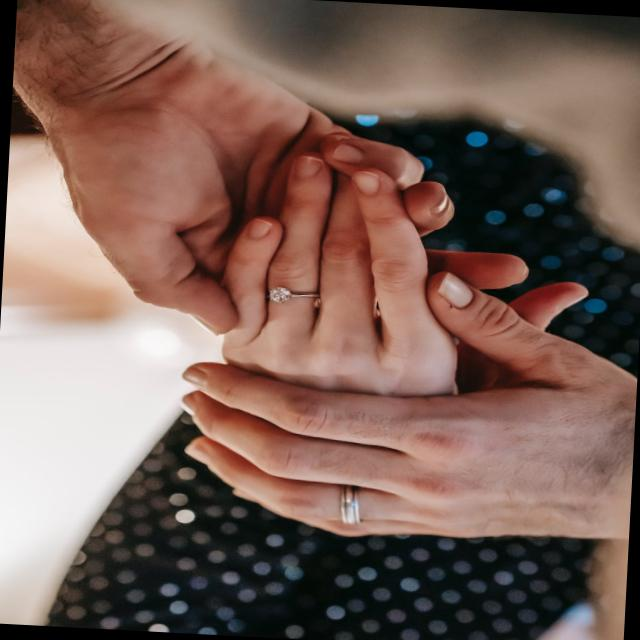Nail: (438, 272, 473, 307), (328, 141, 365, 164), (180, 363, 209, 389), (184, 437, 209, 465), (243, 217, 273, 240), (351, 169, 379, 193), (186, 314, 218, 335), (293, 154, 321, 178), (428, 190, 450, 217), (181, 393, 197, 417)
